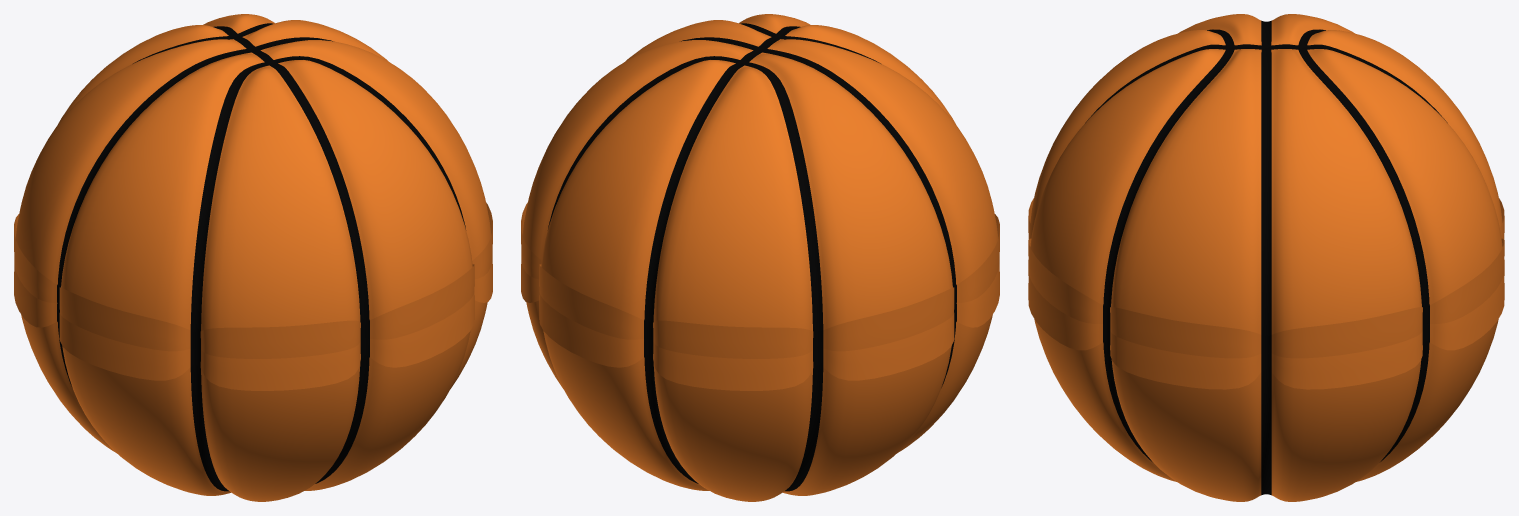
File: ball.fbx
3 renders of one model, left to right at view 1: azimuth 30°, elevation 25°; view 2: azimuth 150°, elevation 25°; view 3: azimuth 270°, elevation 25°, orthographic.
Visible parts, largest first — view 1: Sphere; view 2: Sphere; view 3: Sphere.
Boxes of the visible parts, left/top/right/bottom form: Sphere: left=14, top=14, right=492, bottom=501; Sphere: left=521, top=14, right=999, bottom=501; Sphere: left=1028, top=14, right=1504, bottom=501.
Size of the model in its own units: 190 by 191 by 190.
